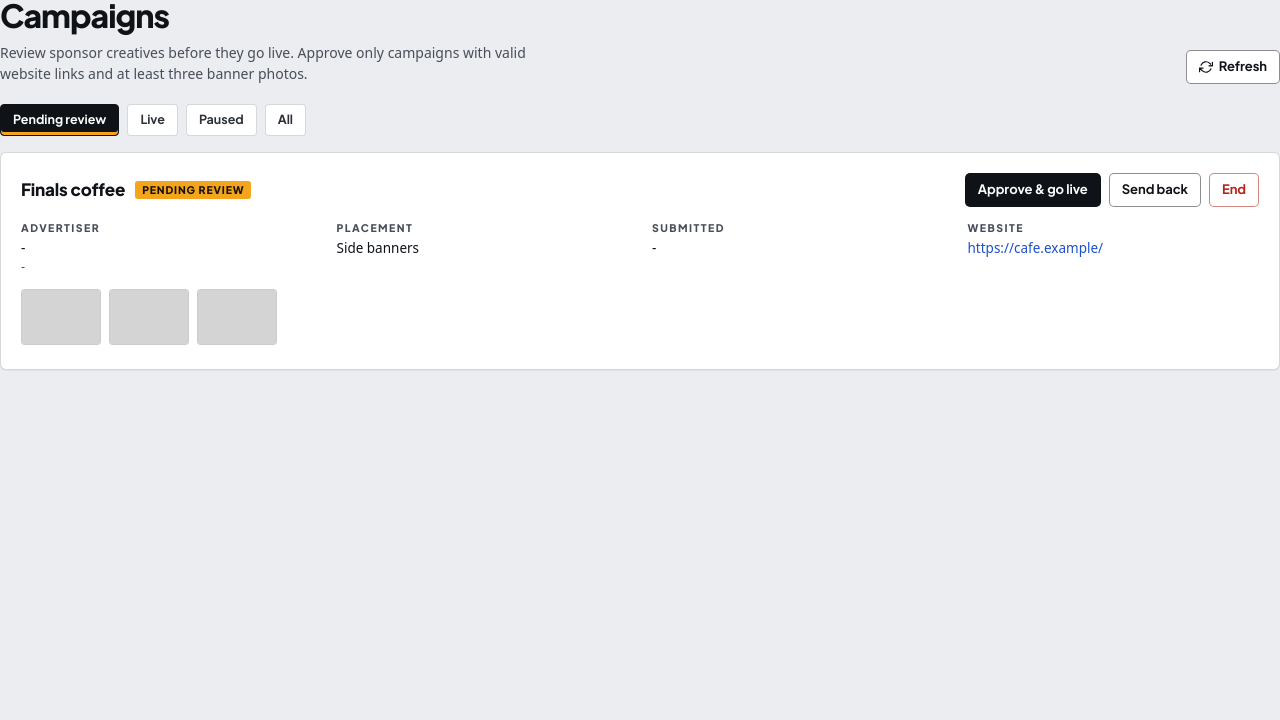
Test: AdminCampaigns confirm dialogs › asks to send back, and End warns that it cannot be undone in a destructive dialog
Click the button "Send back" at coordinates (1155, 190), box [1109, 173, 1201, 207]
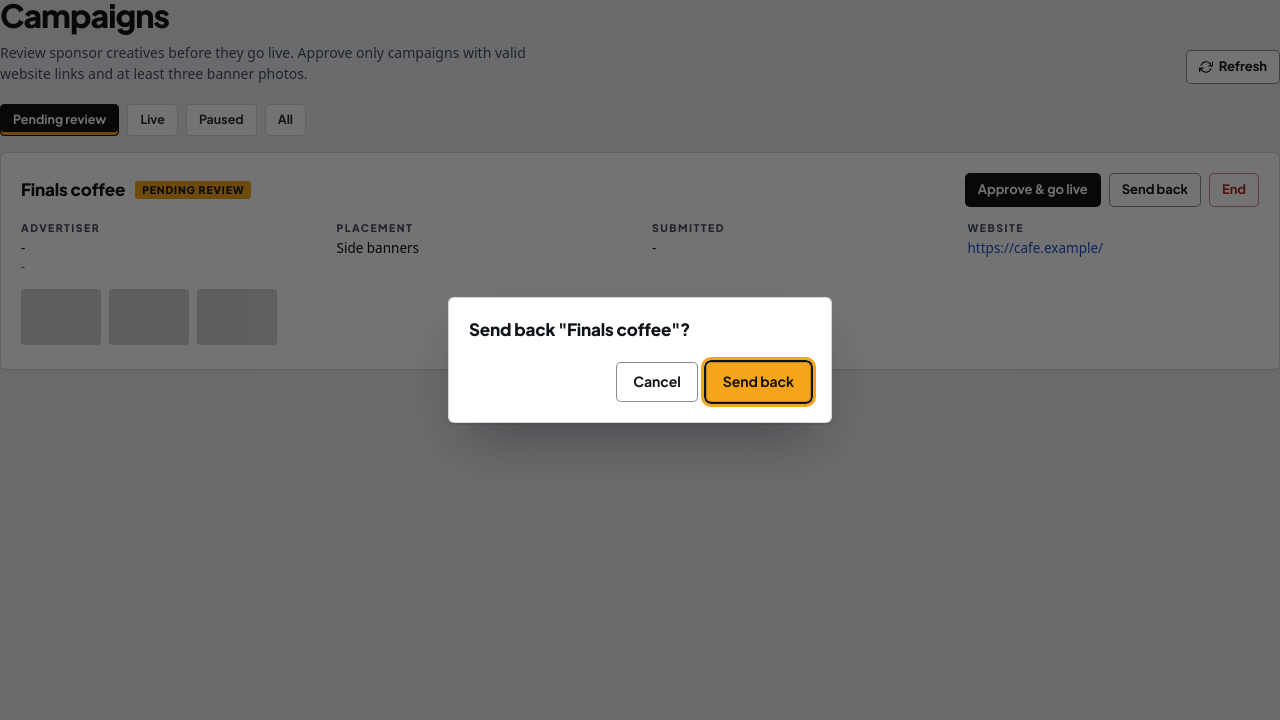
Expected: the heading reads "Send back \"Finals coffee\"?", [469, 319, 690, 340]
Click the button "Cancel" at coordinates (657, 382), box [616, 362, 698, 402]
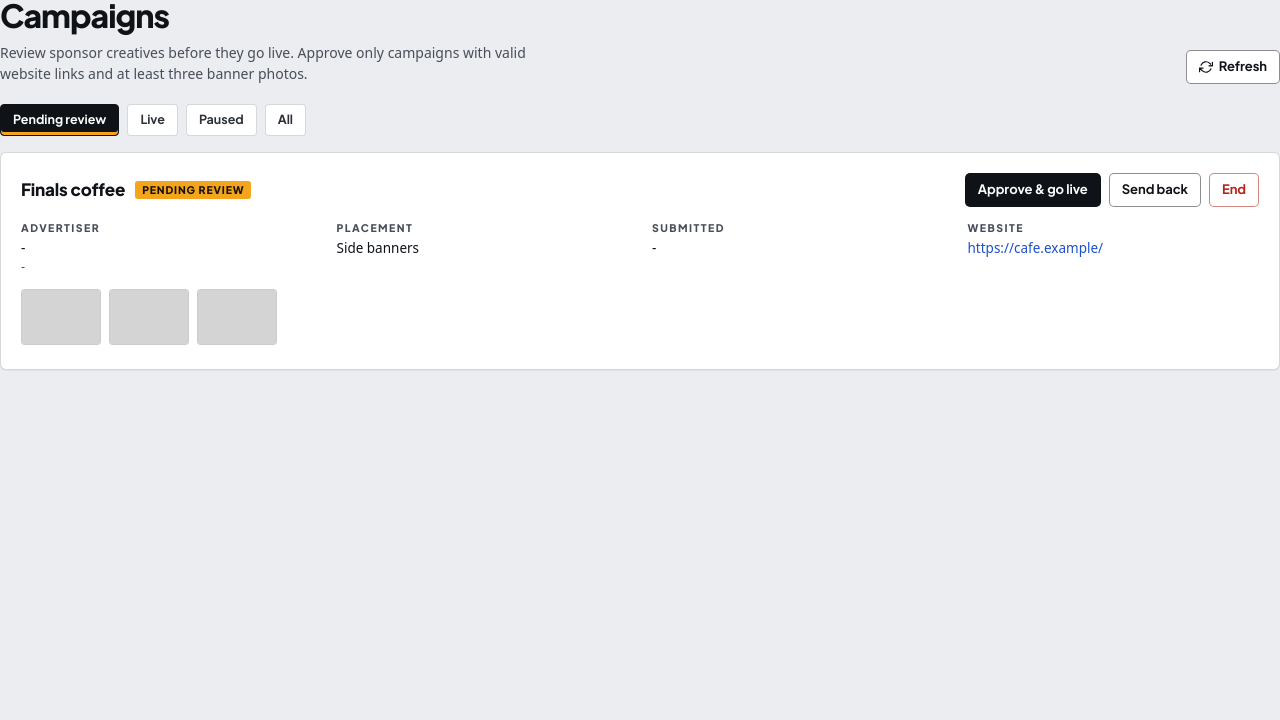
Expected: the dialog is gone
Click the button "End" at coordinates (1234, 190), box [1209, 173, 1259, 207]
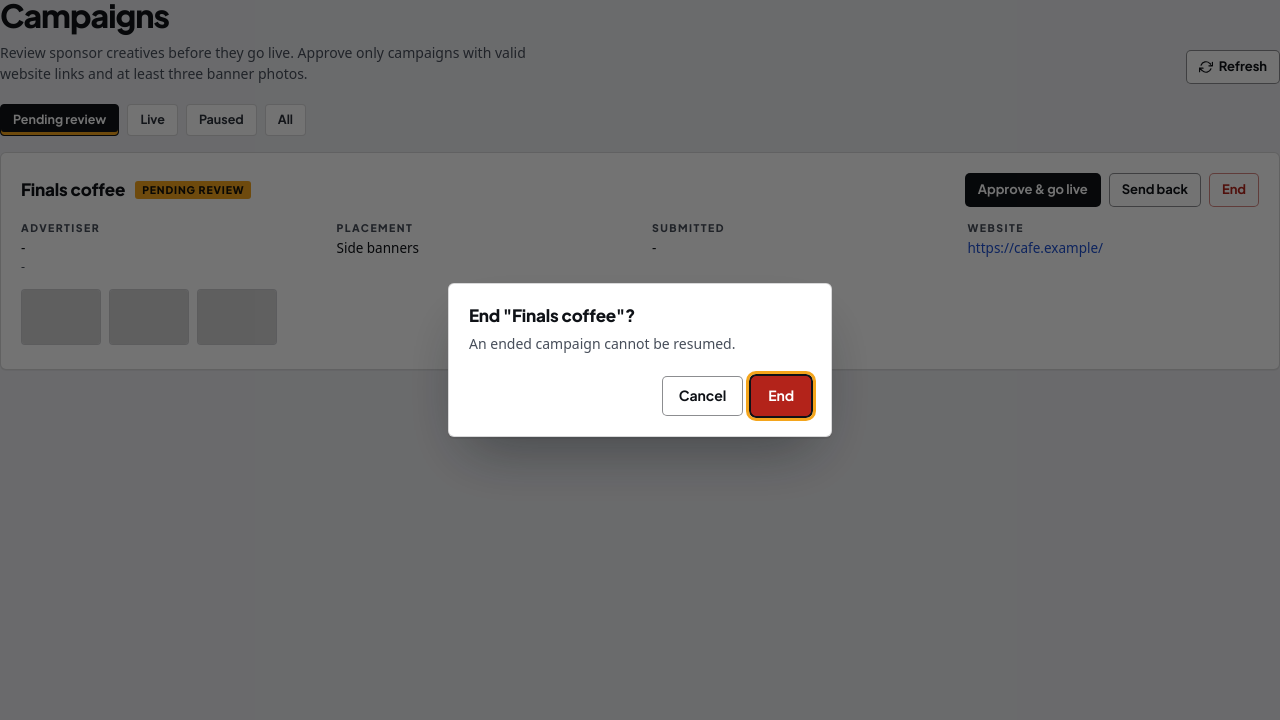
Expected: the heading reads "End \"Finals coffee\"?", [469, 305, 635, 326]
Expected: the text "An ended campaign cannot be resumed." is shown, [469, 333, 736, 356]
